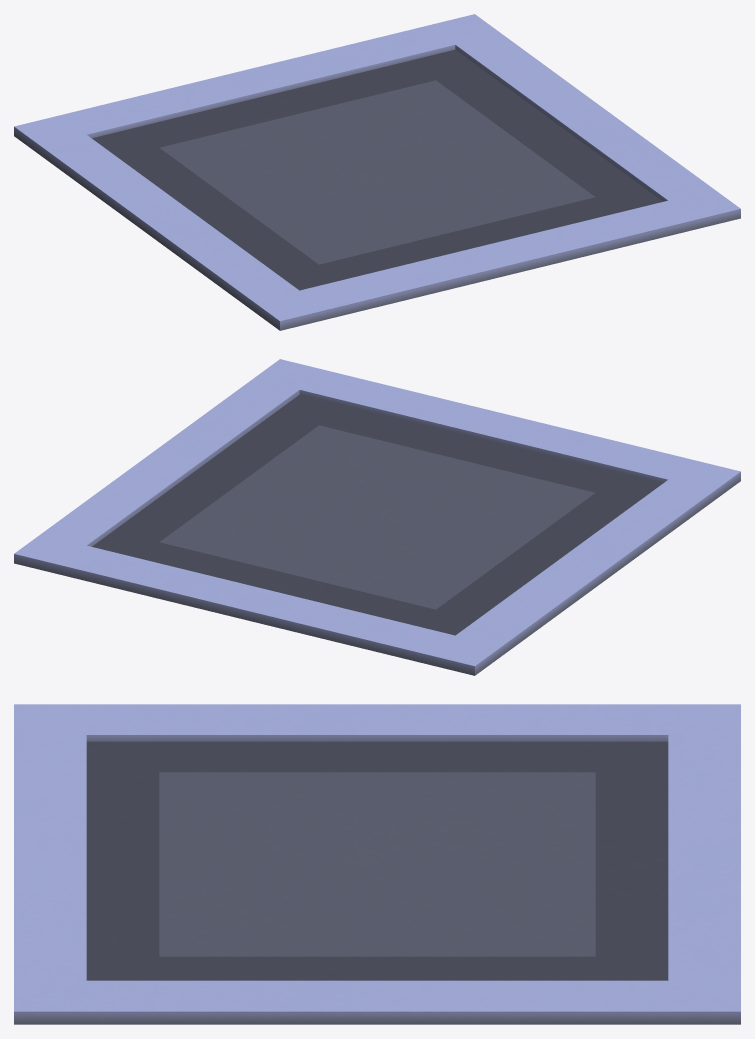
The model's file is road-square.glb.
3 renders of one model, top to bottom at view 1: azimuth 30°, elevation 25°; view 2: azimuth 150°, elevation 25°; view 3: azimuth 270°, elevation 25°, orthographic. The views are drawn at different scales.
Parts seen in each view (by area): view 1: road-square; view 2: road-square; view 3: road-square.
Boxes of the visible parts, x1=… form: road-square: x1=14, y1=14, x2=740, y2=330; road-square: x1=14, y1=359, x2=740, y2=675; road-square: x1=14, y1=704, x2=740, y2=1024.
Bounding box in the file's own units: 1 × 0.02 × 1.
Materials: 1 (1 with a texture image).
